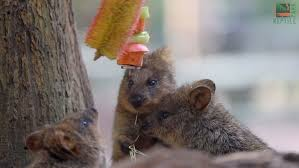quokka: (109, 57, 285, 168)
